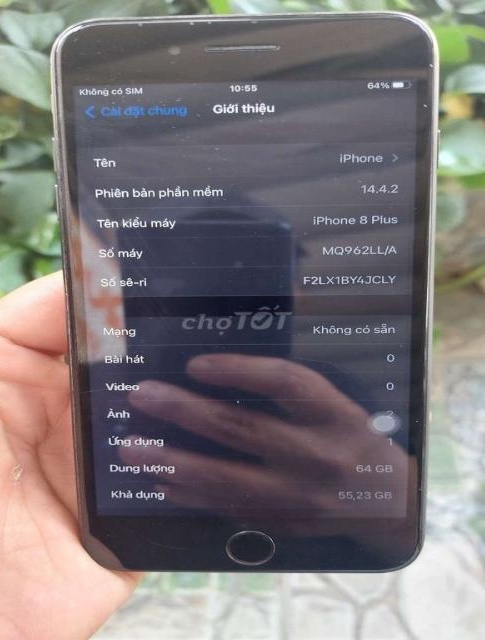scratch: (60, 31, 196, 81), (52, 231, 80, 411), (118, 532, 188, 552), (120, 20, 260, 28), (419, 332, 432, 404), (417, 96, 435, 112), (425, 55, 441, 70), (416, 479, 427, 497), (393, 556, 417, 564)
